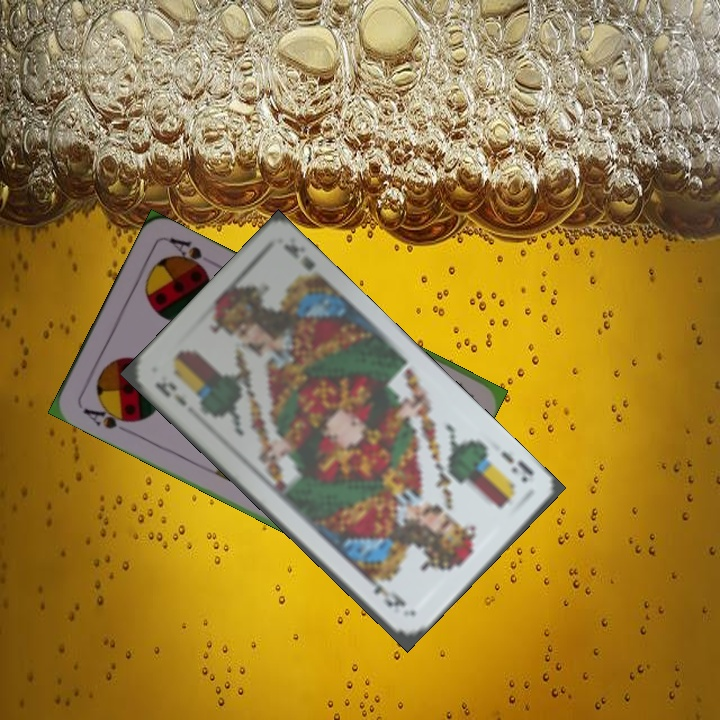EK: (497, 446, 537, 486), (151, 377, 190, 409)
SA: (79, 399, 137, 436)
